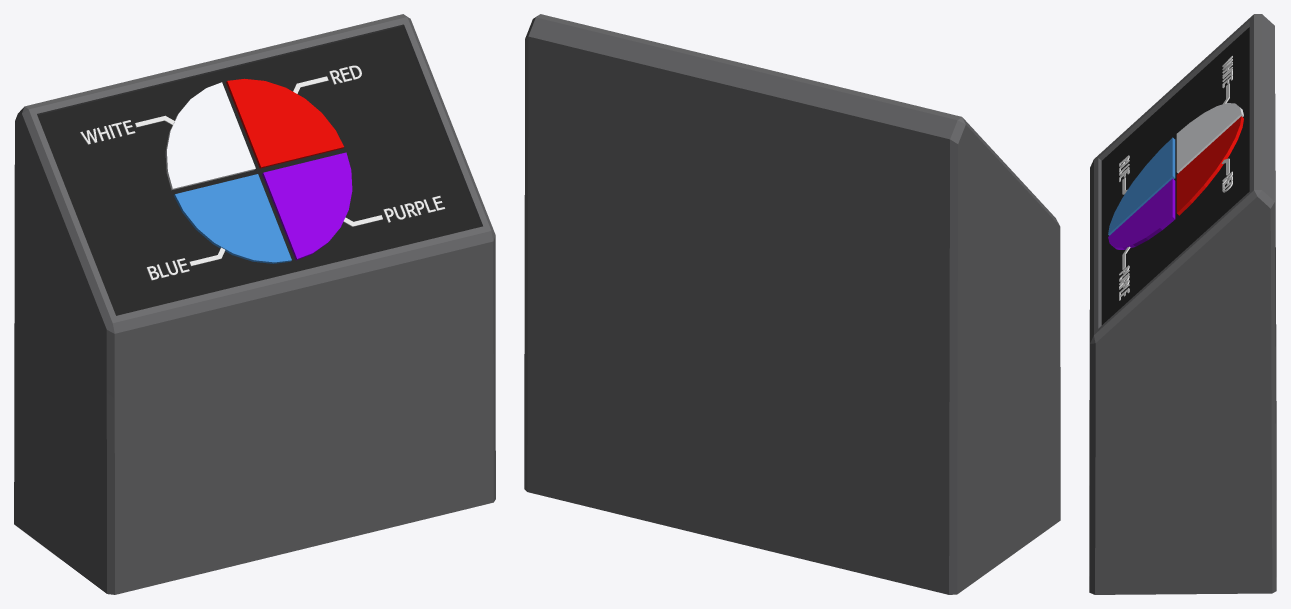
Rendered from color_monitor.fbx.
3 views of the same model, side by side, from view 1: azimuth 30°, elevation 25°; view 2: azimuth 150°, elevation 25°; view 3: azimuth 270°, elevation 25° (orthographic). The views are drawn at different scales.
Parts seen in each view (by area): view 1: Color_Monitor.001; view 2: Color_Monitor.001; view 3: Color_Monitor.001.
Boxes of the visible parts, box(x1,y1,x2,y2) form: Color_Monitor.001: box(14, 14, 495, 594); Color_Monitor.001: box(524, 14, 1060, 594); Color_Monitor.001: box(1089, 14, 1276, 594).
Size of the model in its own units: 180 by 187 by 78.71.
